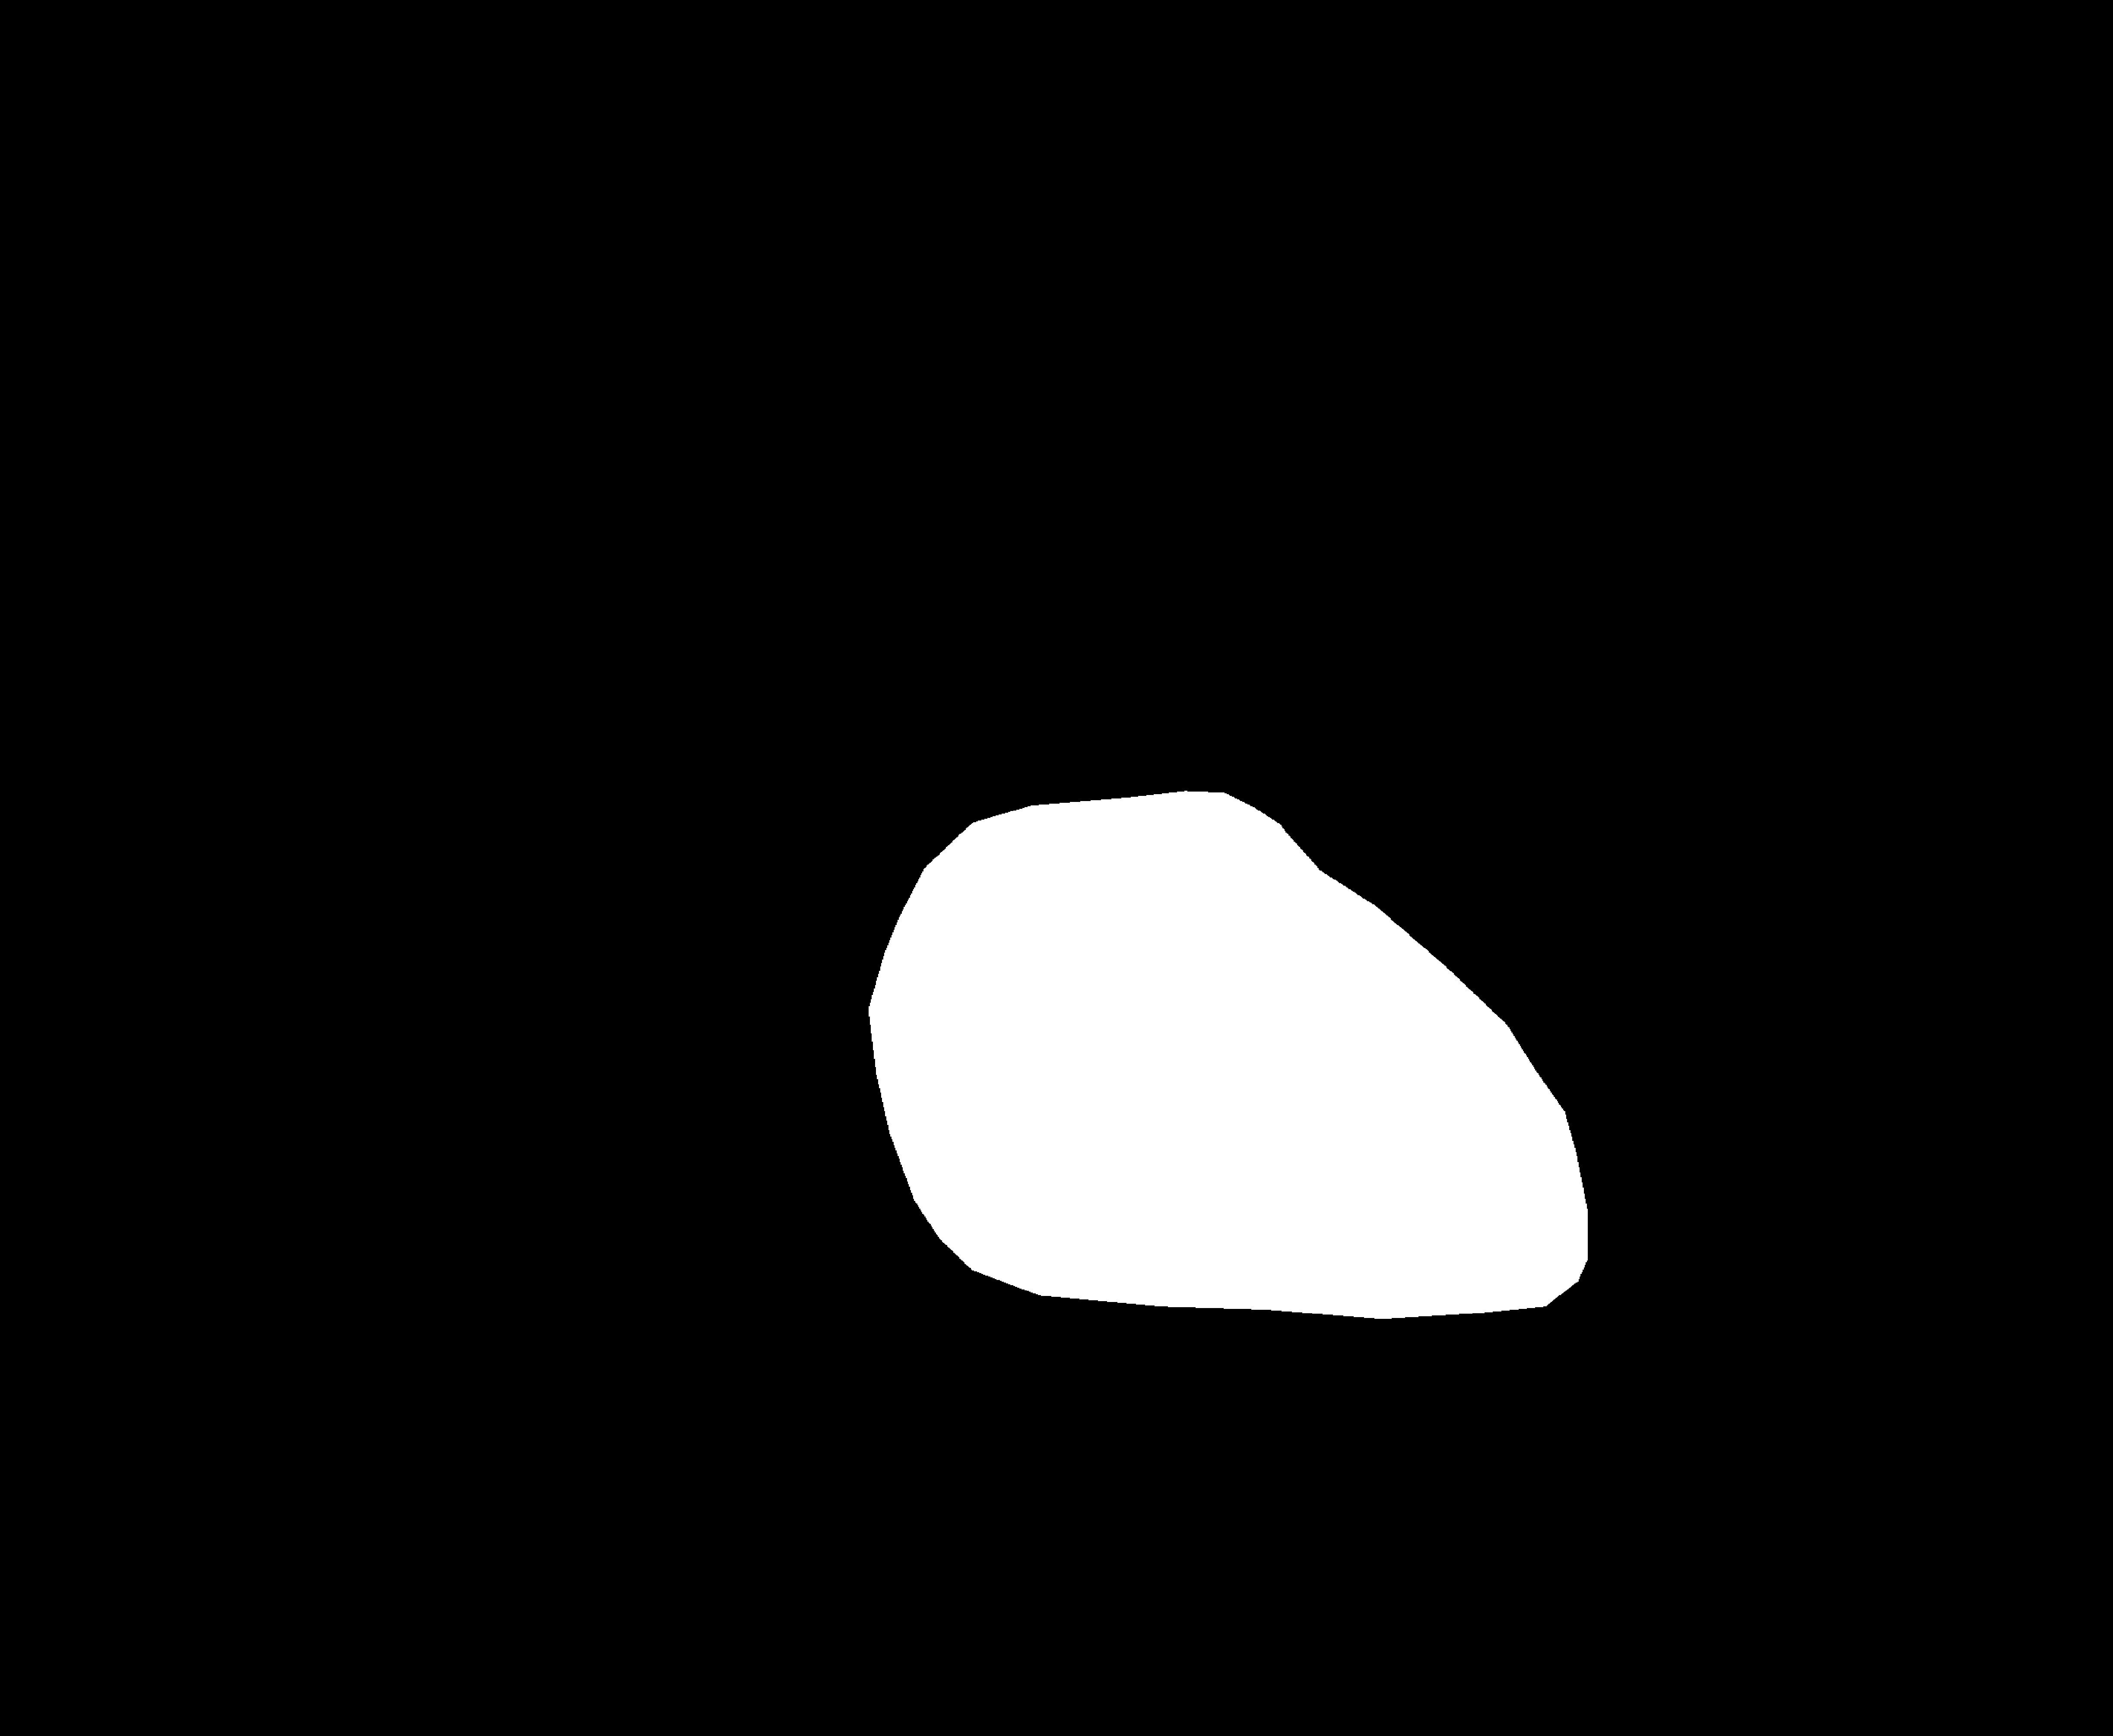heart: (867, 832, 1585, 1357)
left_lung: (276, 211, 1013, 1527)
right_lung: (1148, 202, 1899, 1566)
